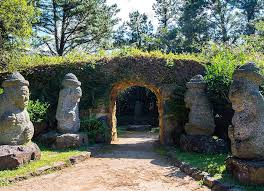Stone Statue: (221, 55, 264, 177), (0, 69, 38, 172), (173, 71, 221, 151), (48, 65, 87, 146)
